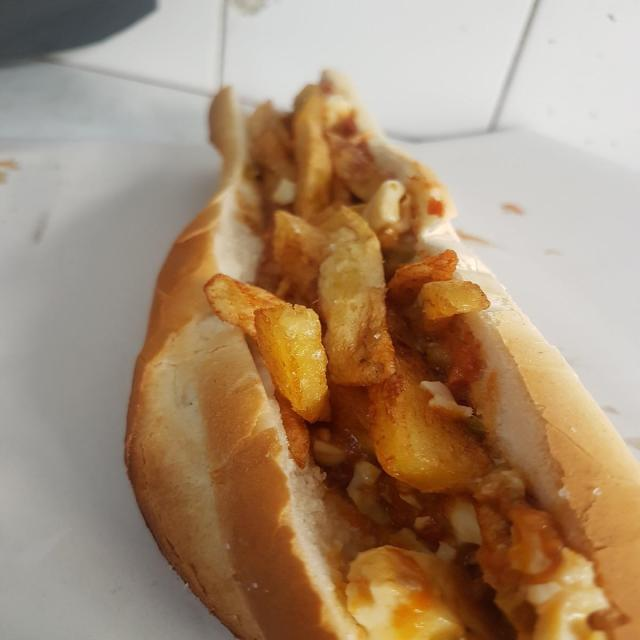Sandwitch tounsi: (135, 70, 590, 640)
